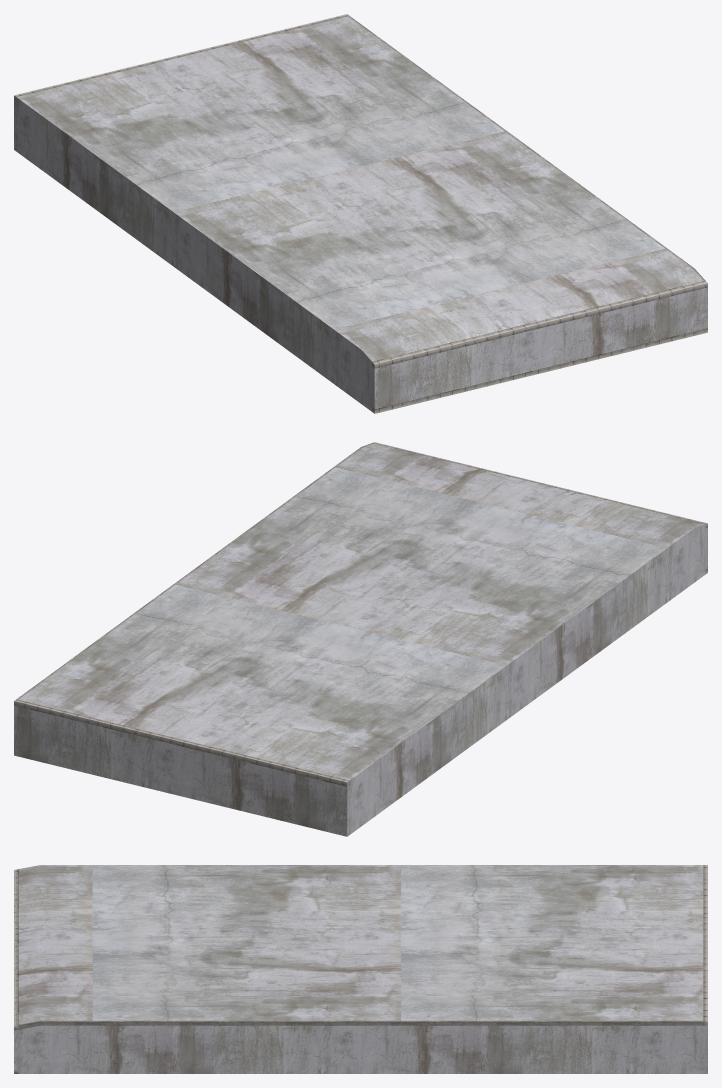
The model's file is bil_site_05_8mx15m.fbx.
The picture shows the model from 3 angles, top to bottom: view 1: azimuth 30°, elevation 25°; view 2: azimuth 150°, elevation 25°; view 3: azimuth 270°, elevation 25°; orthographic projection. The views are drawn at different scales.
Visible parts, largest first — view 1: bil_site_05_8mx15m; view 2: bil_site_05_8mx15m; view 3: bil_site_05_8mx15m.
Boxes of the visible parts, x1,y1,x2,y2 form: bil_site_05_8mx15m: (14,14,707,413); bil_site_05_8mx15m: (14,442,707,836); bil_site_05_8mx15m: (14,865,707,1073).
Size of the model in its own units: 800 by 125 by 1500.
